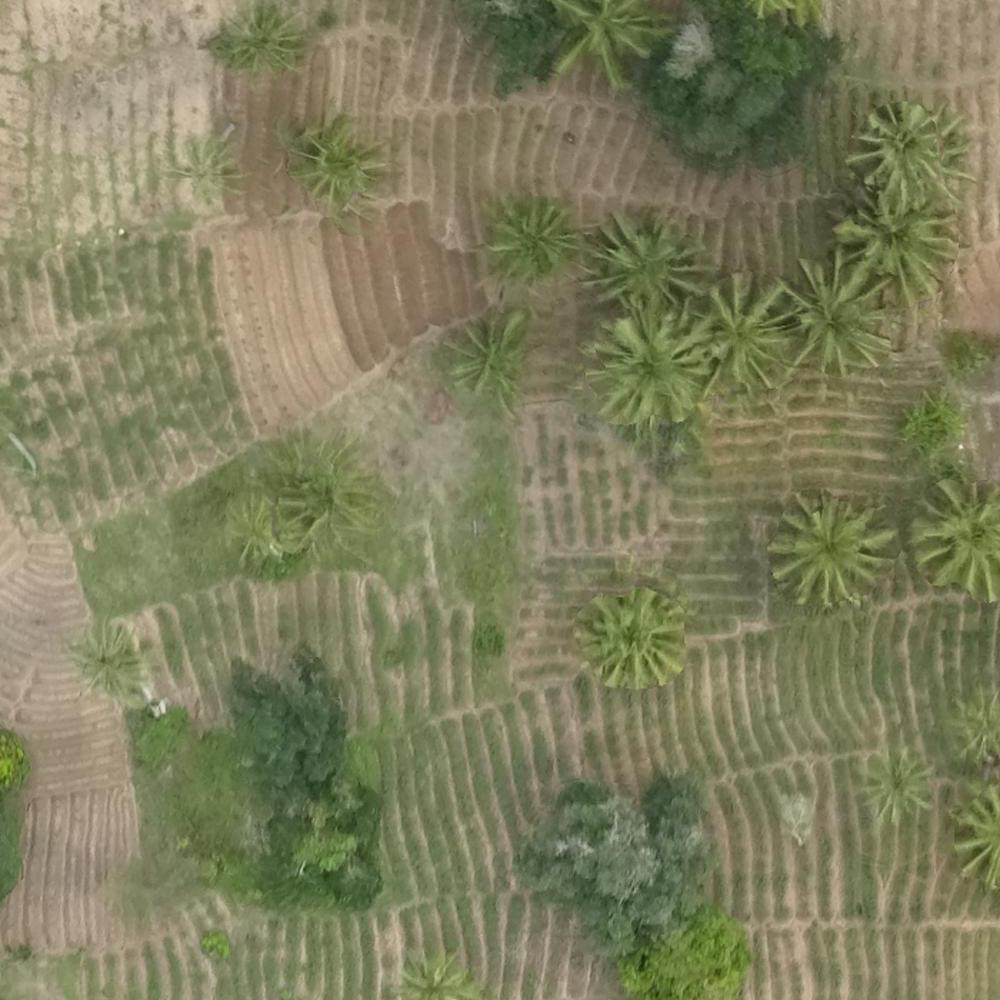Palm: (772, 263, 894, 383), (587, 311, 705, 419), (832, 196, 948, 305), (694, 269, 793, 388), (772, 493, 882, 599), (905, 480, 1000, 598), (582, 213, 697, 310), (291, 114, 386, 225), (580, 588, 682, 689), (848, 102, 953, 198), (481, 198, 580, 293), (440, 307, 531, 408), (209, 5, 301, 83), (72, 621, 150, 701), (857, 750, 934, 827)
